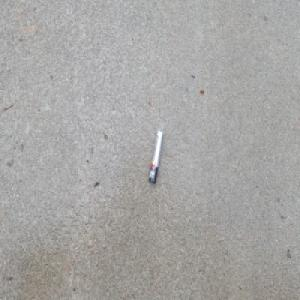Battery: (148, 126, 164, 183)
